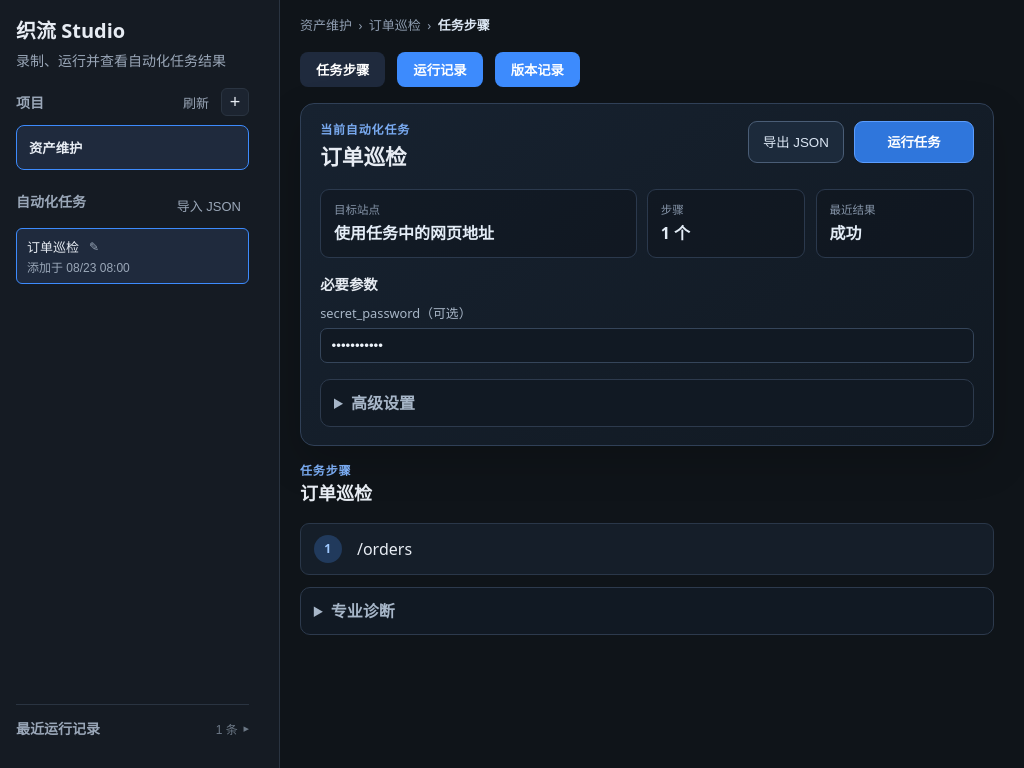
Studio 本地资产维护 › 删除失败时保留确认框与列表选择并通过 alert 报错
This screenshot has width=1024, height=768.
Click the button "最近运行记录 1 条 ▸". click: {"x": 132, "y": 728}
box: [16,713,249,744]
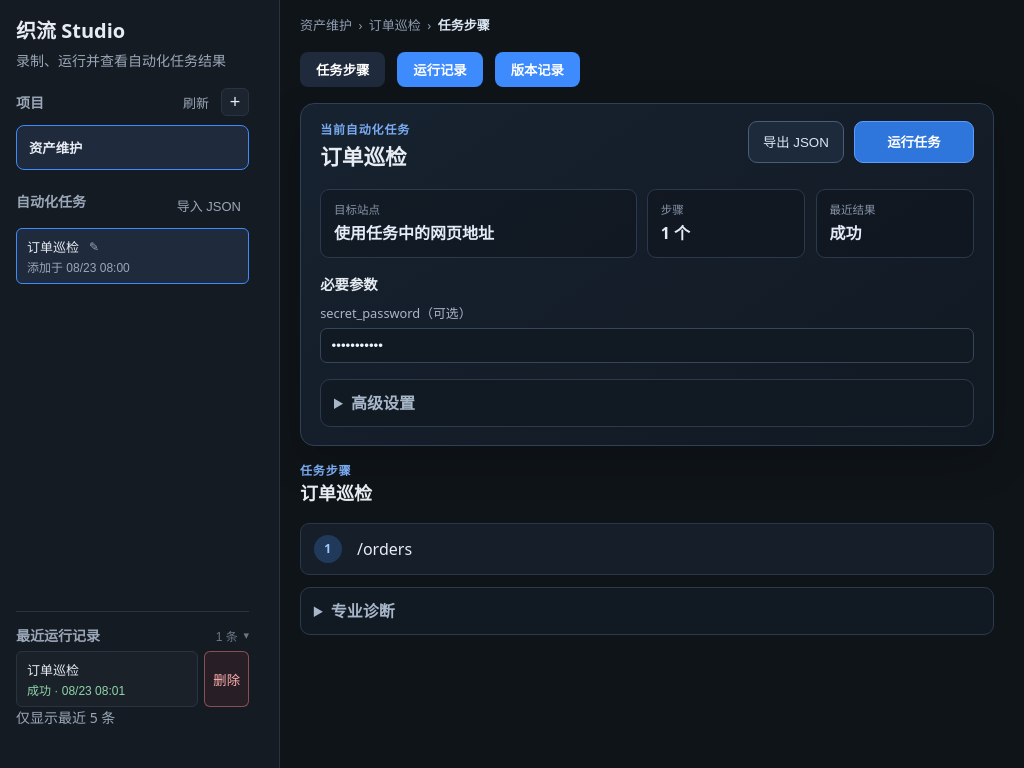
Click the button with class "execution-history-item" showing "订单巡检 成功 · 08/23 08:01". click: {"x": 107, "y": 679}
box: [16,651,198,707]
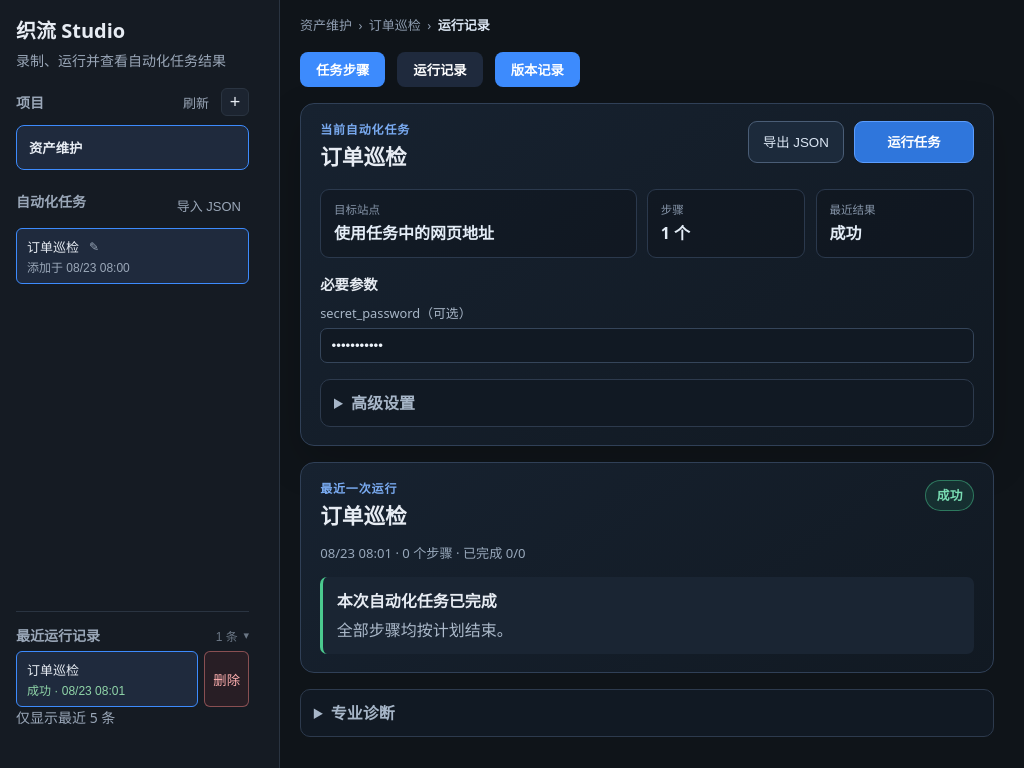
Click the button with class "execution-history-delete". click: {"x": 227, "y": 679}
box: [204,651,249,707]
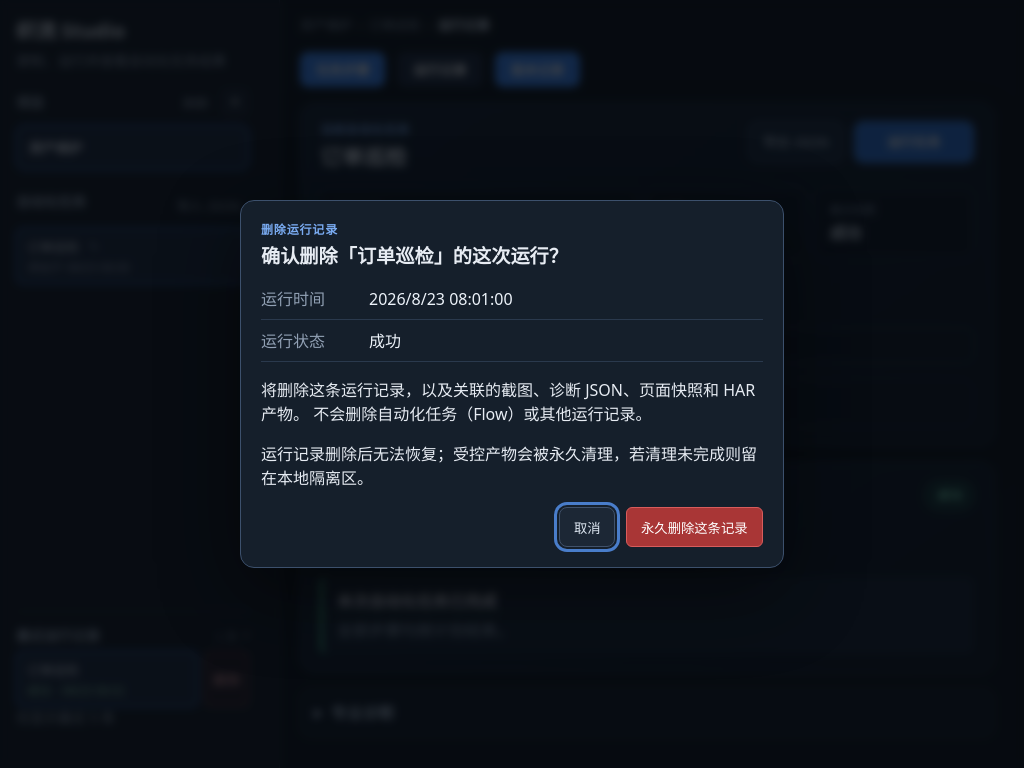
Click the button "永久删除这条记录". click: {"x": 694, "y": 527}
box: [626,507,763,547]
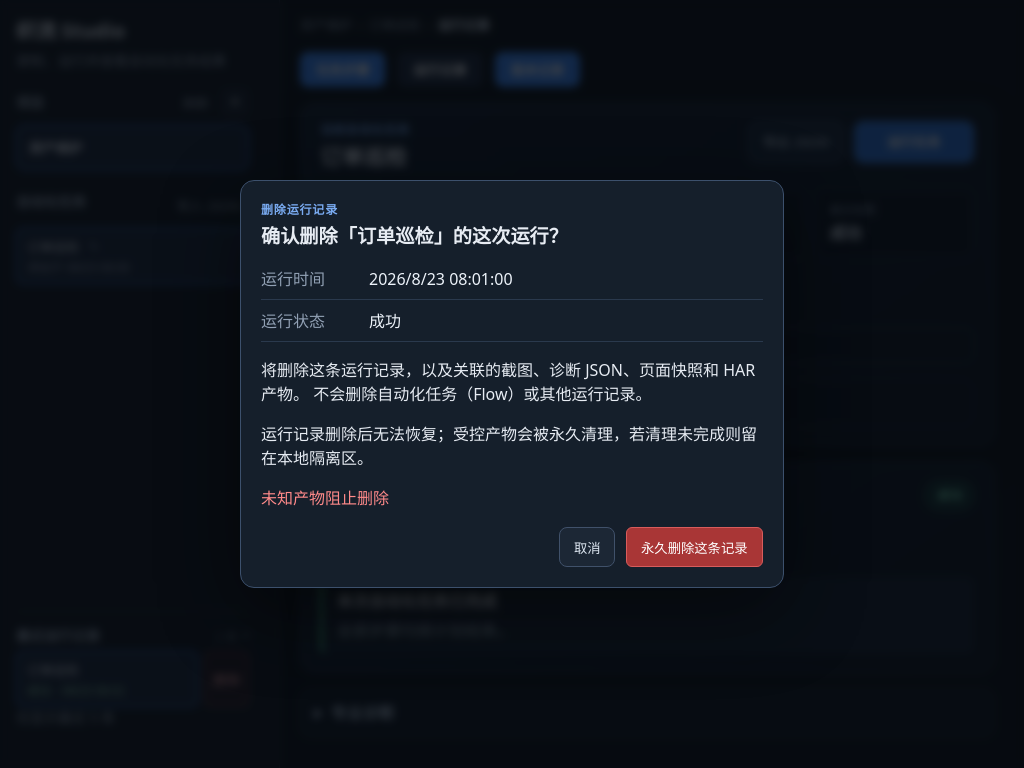
expect the dialog is shown: met, box [240,180,784,588]
expect the message "未知产物阻止删除" is shown: met, box [261,486,389,508]
